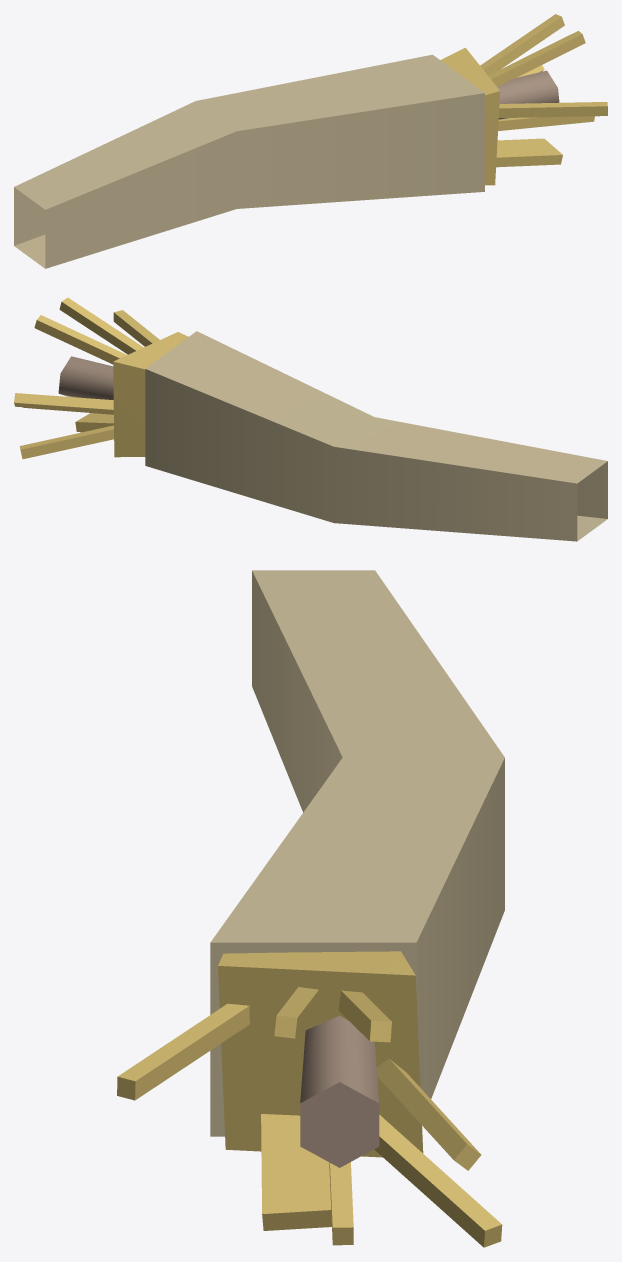
File: scarecrowarm.fbx
3 renders of one model, top to bottom at view 1: azimuth 30°, elevation 25°; view 2: azimuth 150°, elevation 25°; view 3: azimuth 270°, elevation 25°, orthographic. The views are drawn at different scales.
Visible parts, largest first — view 1: polySurface14, polySurface21, polySurface15, polySurface17, polySurface18, polySurface19, polySurface20, polySurface16; view 2: polySurface14, polySurface21, polySurface18, polySurface23, polySurface20, polySurface19, polySurface22, polySurface17, polySurface15; view 3: polySurface14, polySurface21, polySurface18, polySurface15, polySurface22, polySurface17, polySurface23, polySurface16, polySurface20, polySurface19.
Part boxes in pixels (x1,y1,x2,y2): polySurface14: (14, 54, 484, 268); polySurface21: (440, 47, 500, 185); polySurface15: (496, 138, 562, 167); polySurface17: (499, 102, 607, 118); polySurface18: (497, 70, 559, 119); polySurface19: (488, 31, 585, 86); polySurface20: (480, 14, 564, 75); polySurface16: (498, 116, 594, 130); polySurface14: (145, 331, 607, 541); polySurface21: (113, 332, 188, 457); polySurface18: (58, 356, 113, 399); polySurface23: (14, 393, 113, 413); polySurface20: (34, 315, 126, 364); polySurface19: (59, 297, 143, 354); polySurface22: (19, 425, 113, 459); polySurface17: (113, 310, 159, 346); polySurface15: (75, 413, 113, 432); polySurface14: (210, 570, 504, 1136); polySurface21: (218, 951, 423, 1157); polySurface18: (300, 1015, 379, 1167); polySurface15: (261, 1114, 331, 1230); polySurface22: (374, 1115, 502, 1247); polySurface17: (117, 1003, 249, 1100); polySurface23: (376, 1058, 481, 1170); polySurface16: (329, 1162, 353, 1245); polySurface20: (338, 990, 391, 1042); polySurface19: (274, 987, 318, 1038).
Size of the model in its own units: 175 by 52.41 by 35.7.
